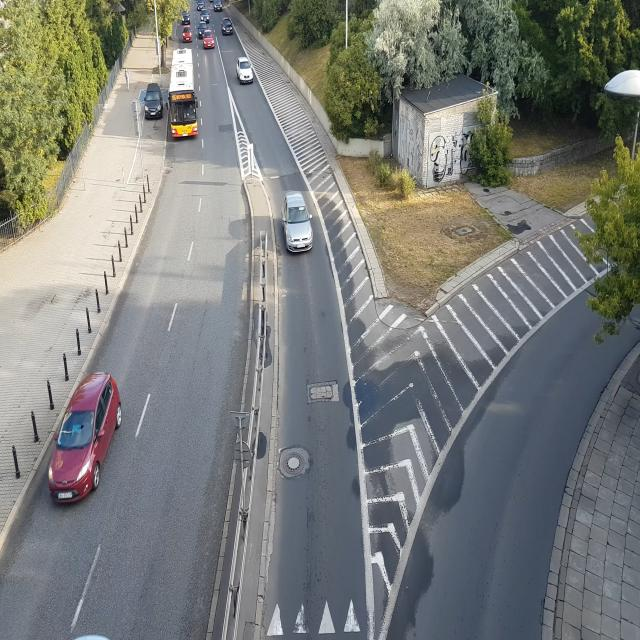bus: (168, 48, 201, 137)
car: (49, 370, 128, 520), (283, 194, 312, 252), (141, 86, 166, 120), (235, 57, 255, 85), (201, 33, 216, 51), (182, 22, 195, 42), (222, 21, 235, 35), (200, 10, 209, 26), (214, 2, 225, 13), (182, 11, 188, 23), (197, 0, 204, 8)
